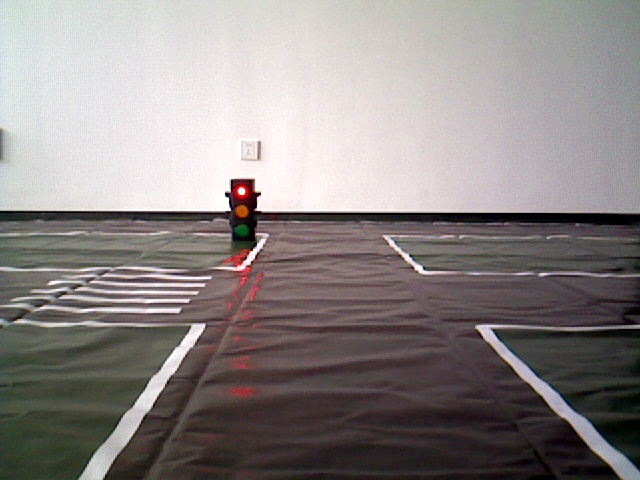red: (231, 182, 253, 241)
